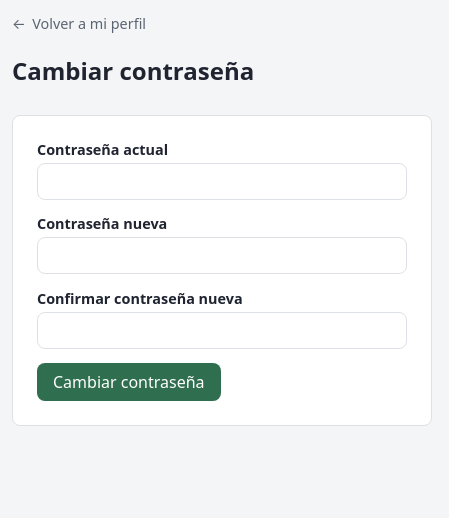
Test: ChangePassword › si la nueva contraseña y la confirmación no coinciden, muestra el error
Type "actual123" into the password field labelled "Contraseña actual" at (222, 182), box [37,163,407,200]
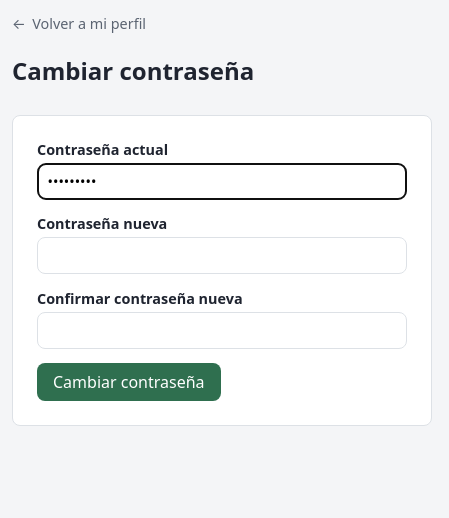
Type "nueva1234" into the password field labelled "Contraseña nueva" at (222, 256), box [37,237,407,274]
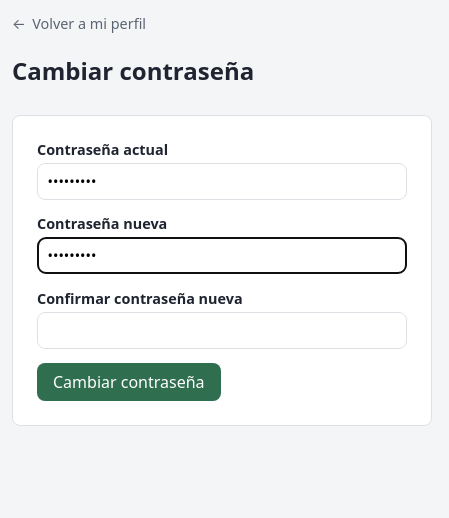
Type "otra12345" into the password field labelled "Confirmar contraseña nueva" at (222, 330), box [37,312,407,349]
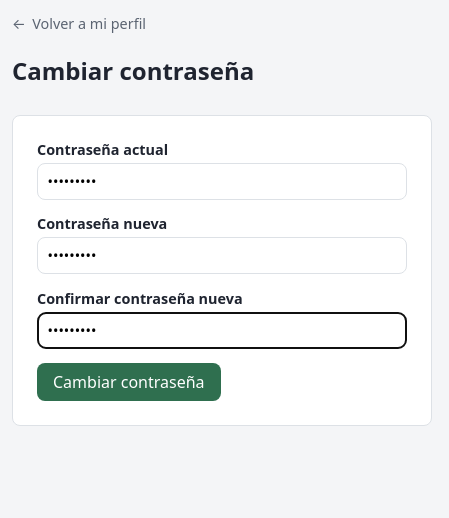
Click the button "Cambiar contraseña" at (129, 382), box [37,363,221,401]
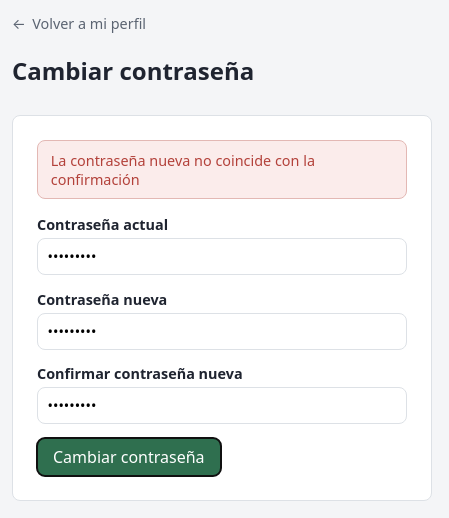
Expected: the text "La contraseña nueva no coincide con la confirmación" is shown, [37,140,407,199]
